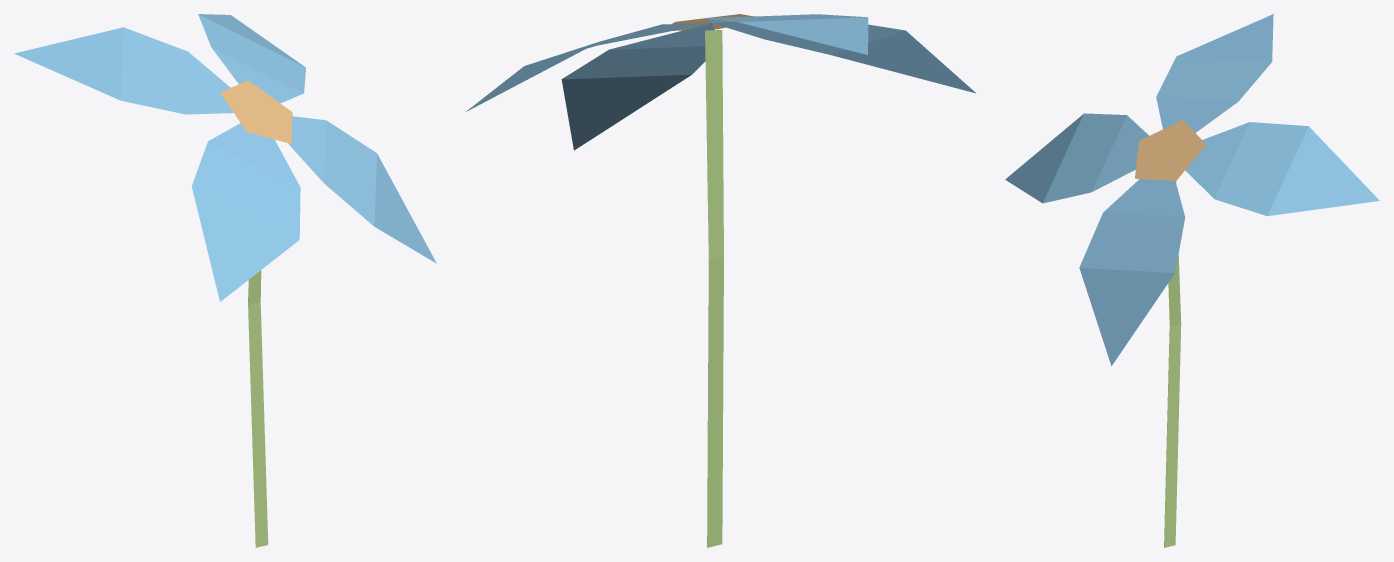
File: Flower_a_TwoS_05.fbx
3 views of the same model, side by side, from view 1: azimuth 30°, elevation 25°; view 2: azimuth 150°, elevation 25°; view 3: azimuth 270°, elevation 25° (orthographic). The views are drawn at different scales.
Parts seen in each view (by area): view 1: Flower_a_TwoS_05; view 2: Flower_a_TwoS_05; view 3: Flower_a_TwoS_05.
Boxes of the visible parts, x1=… form: Flower_a_TwoS_05: x1=14, y1=14, x2=436, y2=547; Flower_a_TwoS_05: x1=466, y1=14, x2=975, y2=547; Flower_a_TwoS_05: x1=1005, y1=14, x2=1379, y2=547.
Size of the model in its own units: 0.4562 by 0.6468 by 0.49.
